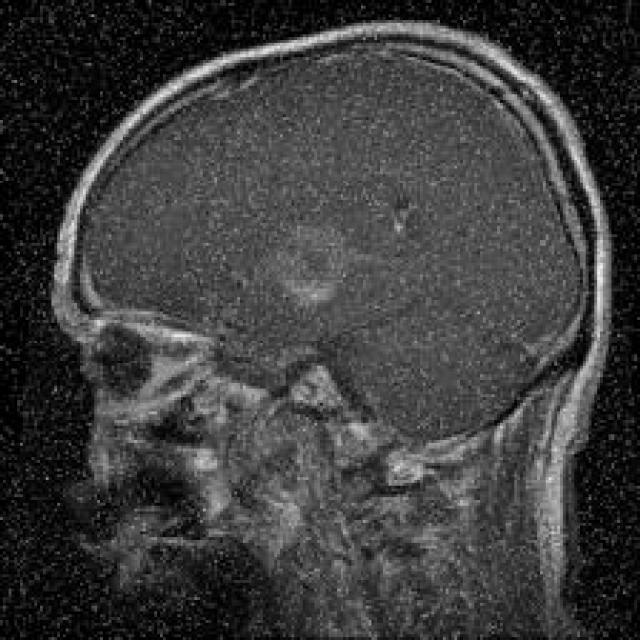glioma_tumor: (200, 181, 442, 345)
